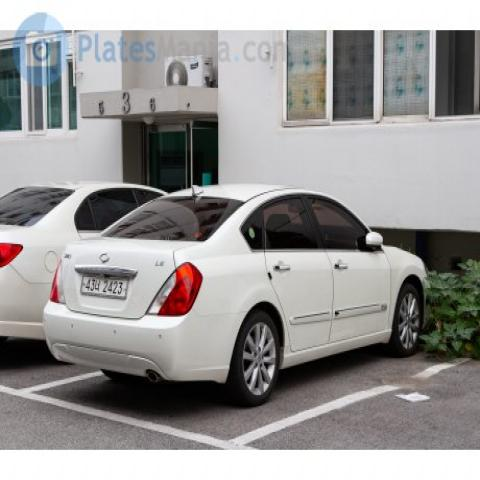LP: (66, 263, 138, 308)
